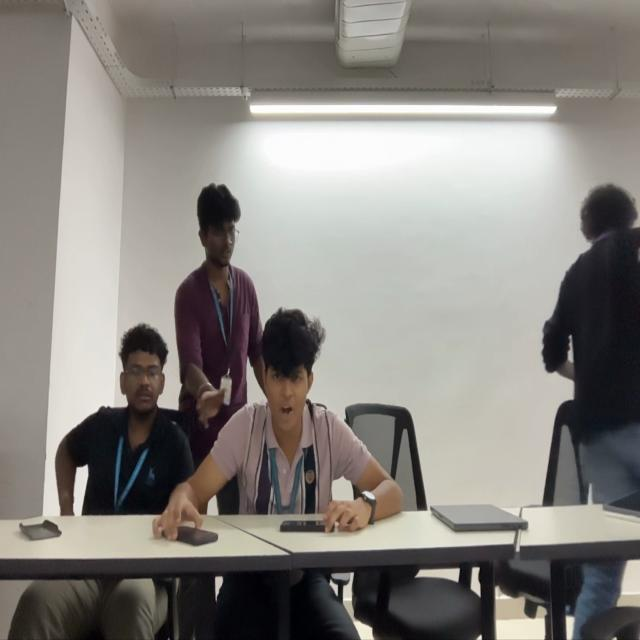Isolated: (540, 170, 640, 502)
socializing: (56, 182, 401, 512)
